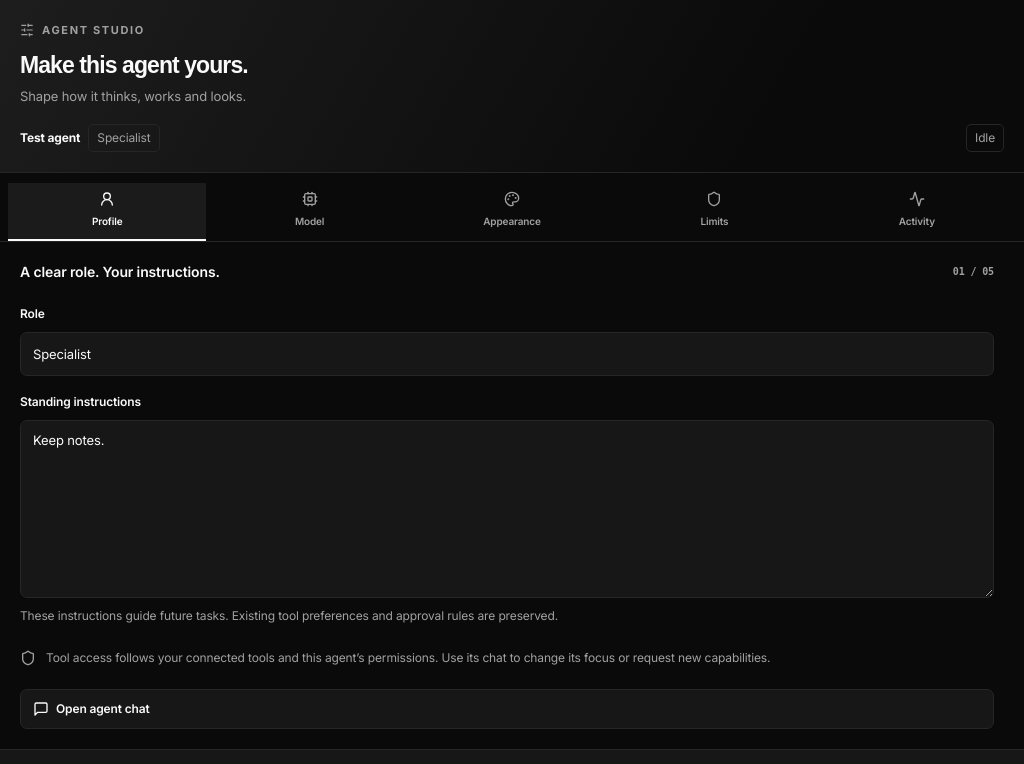
agent studio drafts › saves only the edited role and reports persistence
Replace the text in the field labelled "Role" with "Research partner" at (507, 354), box top-left (20, 332), bottom-right (994, 376)
(page scrolled)
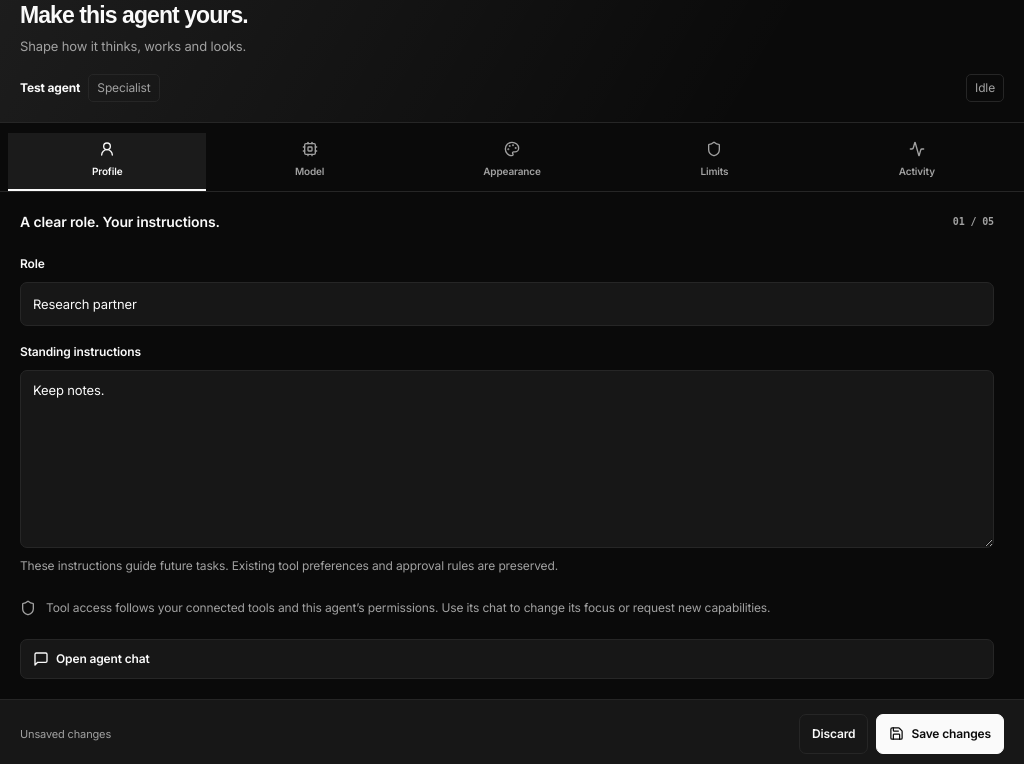
Click the button "Save changes".
click(940, 734)  # box top-left (876, 714), bottom-right (1004, 754)
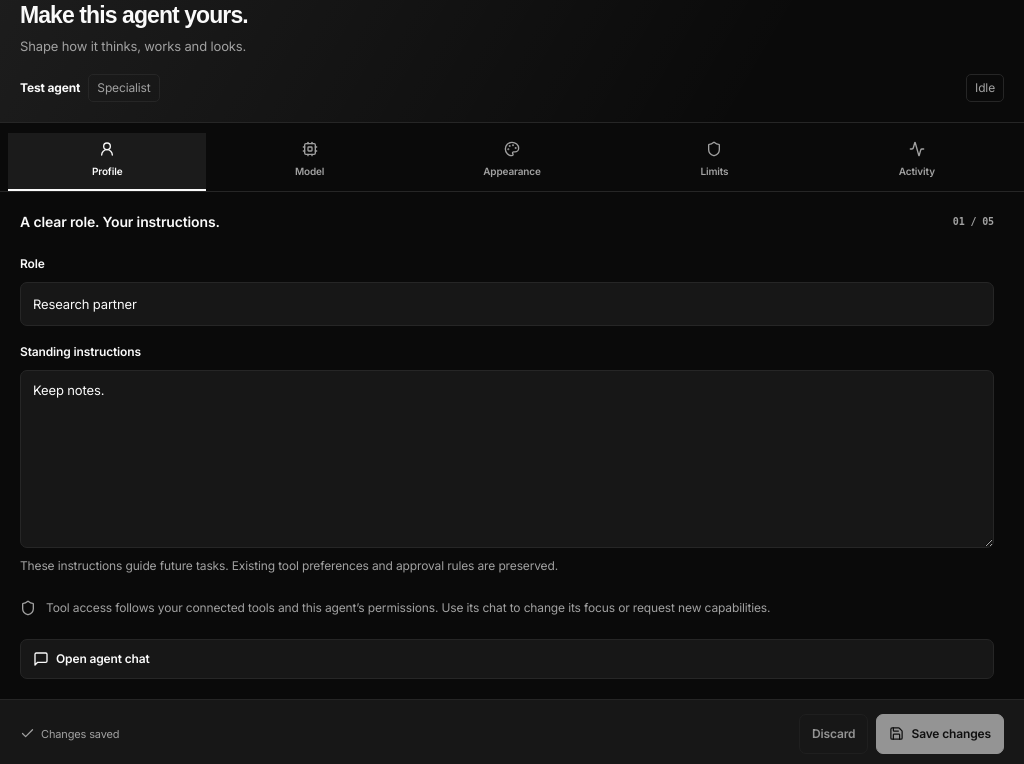
Now the text "Changes saved" is shown, box top-left (20, 724), bottom-right (119, 744)
